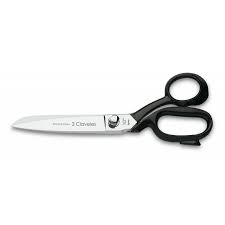tihiras: (8, 68, 216, 160)
